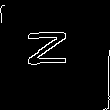N_E: (30, 34, 80, 76)
